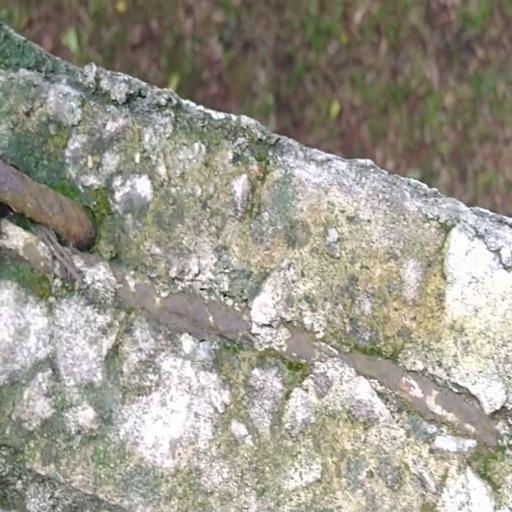spalling: (0, 90, 512, 512)
